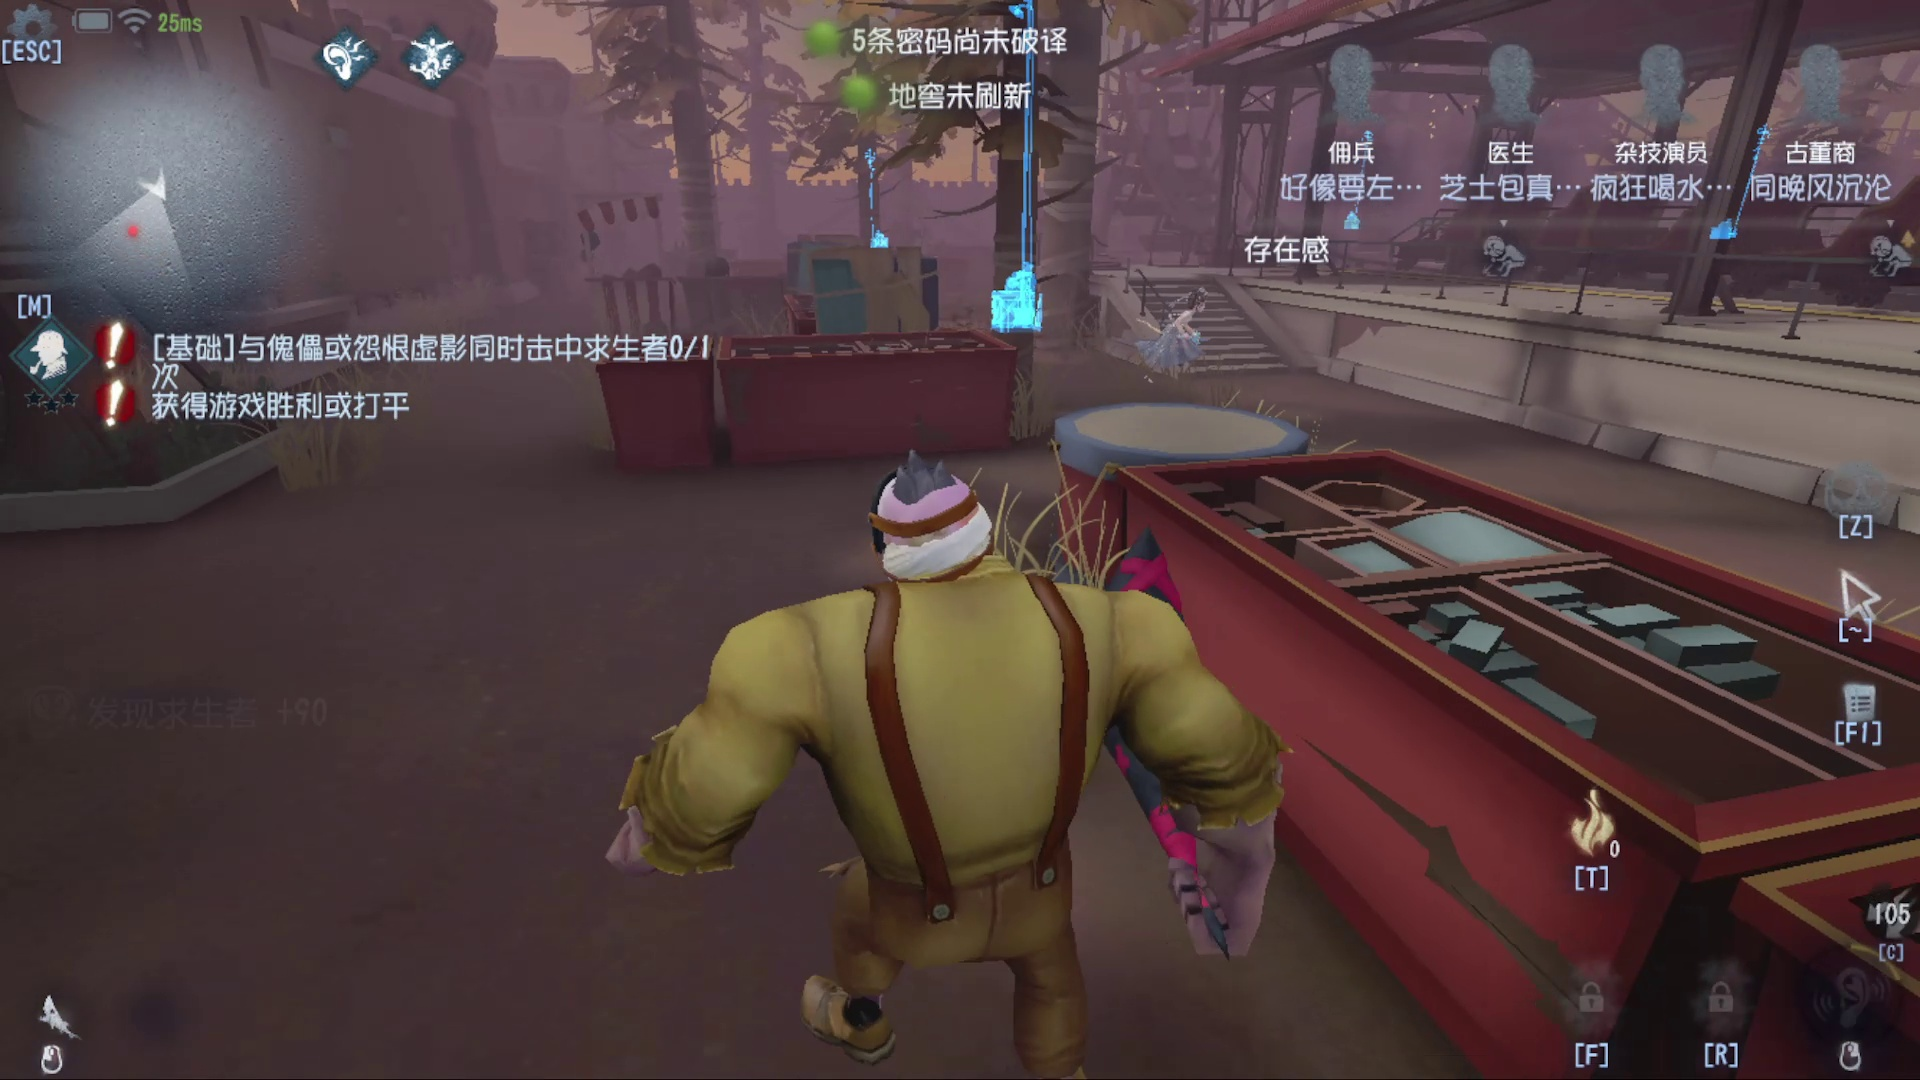密码机: (984, 4, 1065, 356), (853, 145, 907, 256)
木板: (802, 240, 944, 349)
求生者: (1129, 277, 1226, 386)
